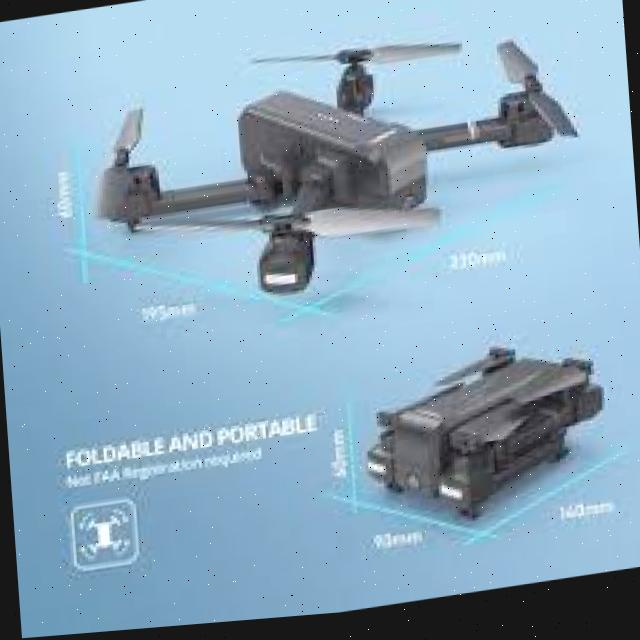drone: (36, 0, 593, 352)
